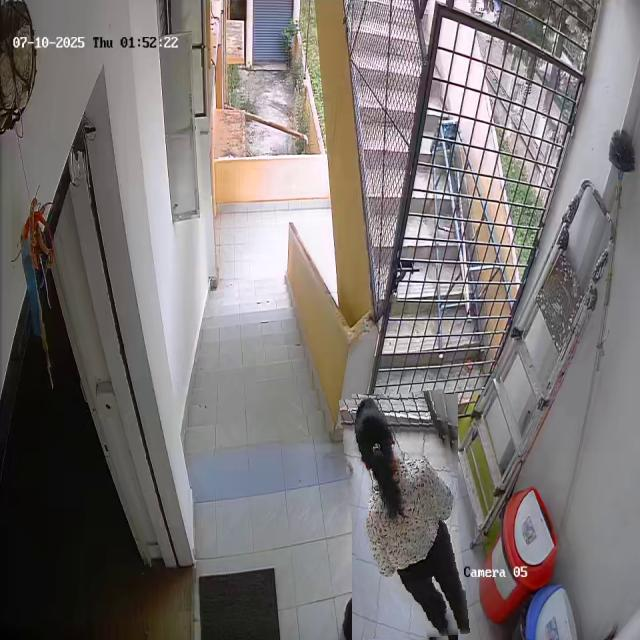person: (345, 391, 464, 640)
